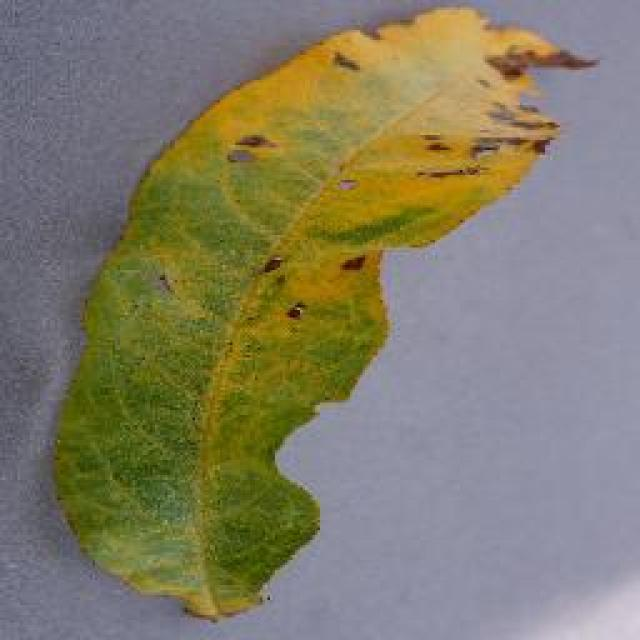Peach_Bacterial_Spot: (205, 49, 567, 318)
